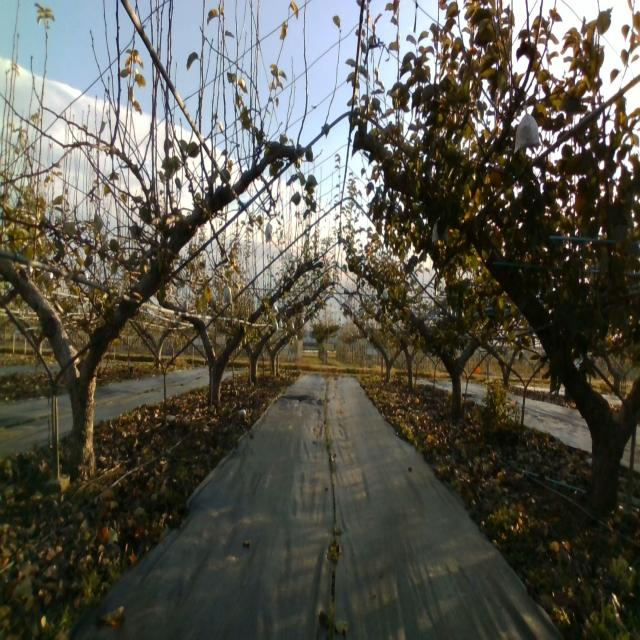pearbags: (512, 104, 542, 154), (222, 282, 233, 305)
